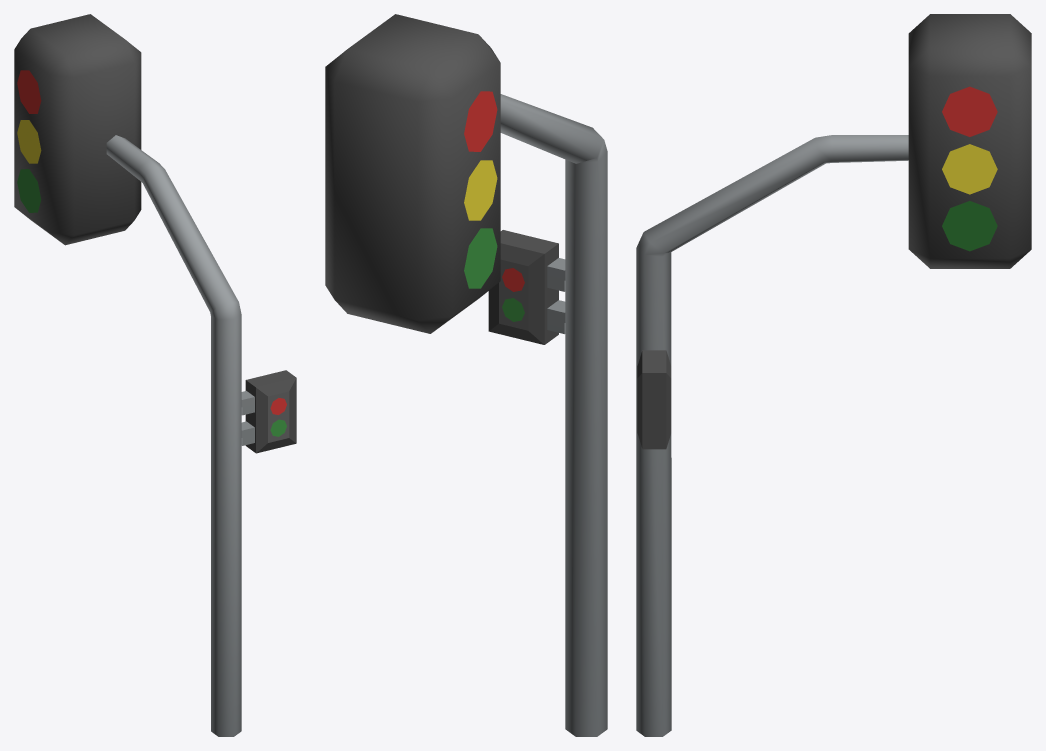
The model's file is Signal.fbx.
3 views of the same model, side by side, from view 1: azimuth 30°, elevation 25°; view 2: azimuth 150°, elevation 25°; view 3: azimuth 270°, elevation 25° (orthographic). The views are drawn at different scales.
Parts seen in each view (by area): view 1: Signal; view 2: Signal; view 3: Signal.
Boxes of the visible parts, x1,y1,x2,y2 form: Signal: (14, 14, 296, 736); Signal: (325, 14, 607, 736); Signal: (636, 14, 1031, 736).
Size of the model in its own units: 0.3104 by 1.42 by 0.7325.
